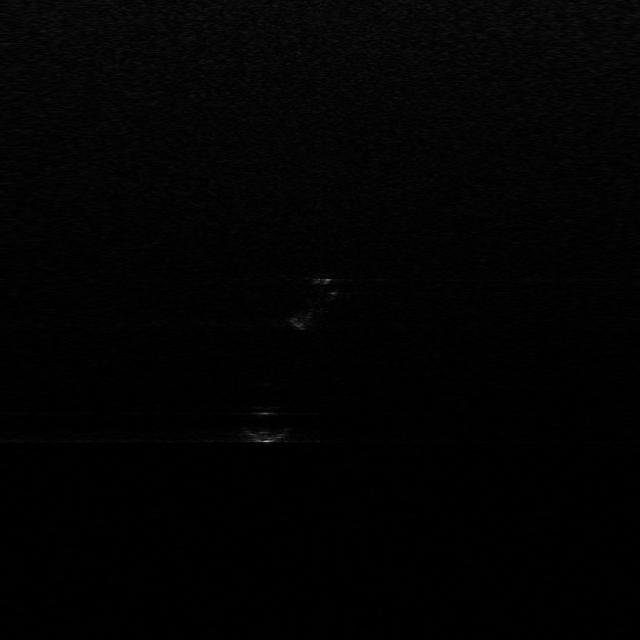ball: (239, 404, 297, 445)
tyre: (290, 274, 338, 332)
